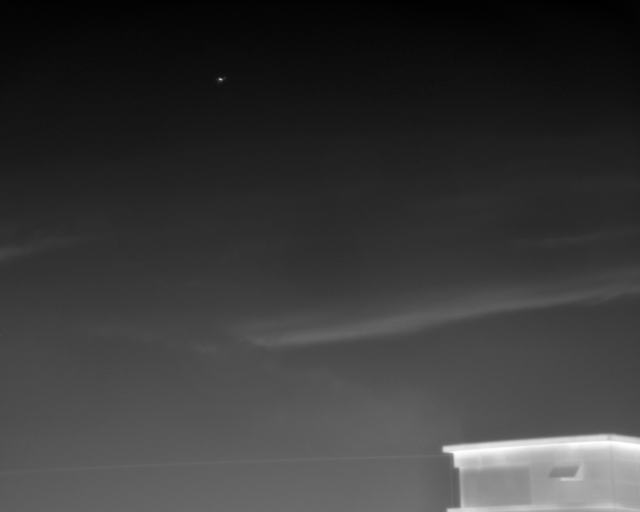Target: (218, 78, 227, 83)
